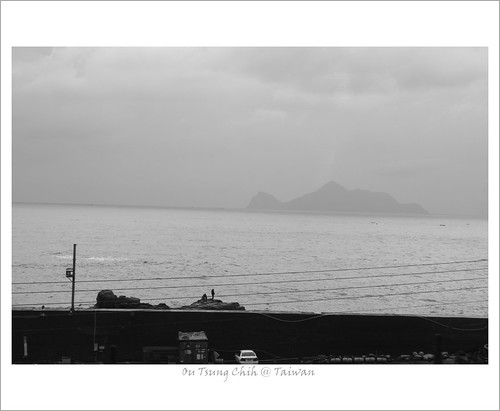turtleIslandLeft: (247, 182, 437, 216)
